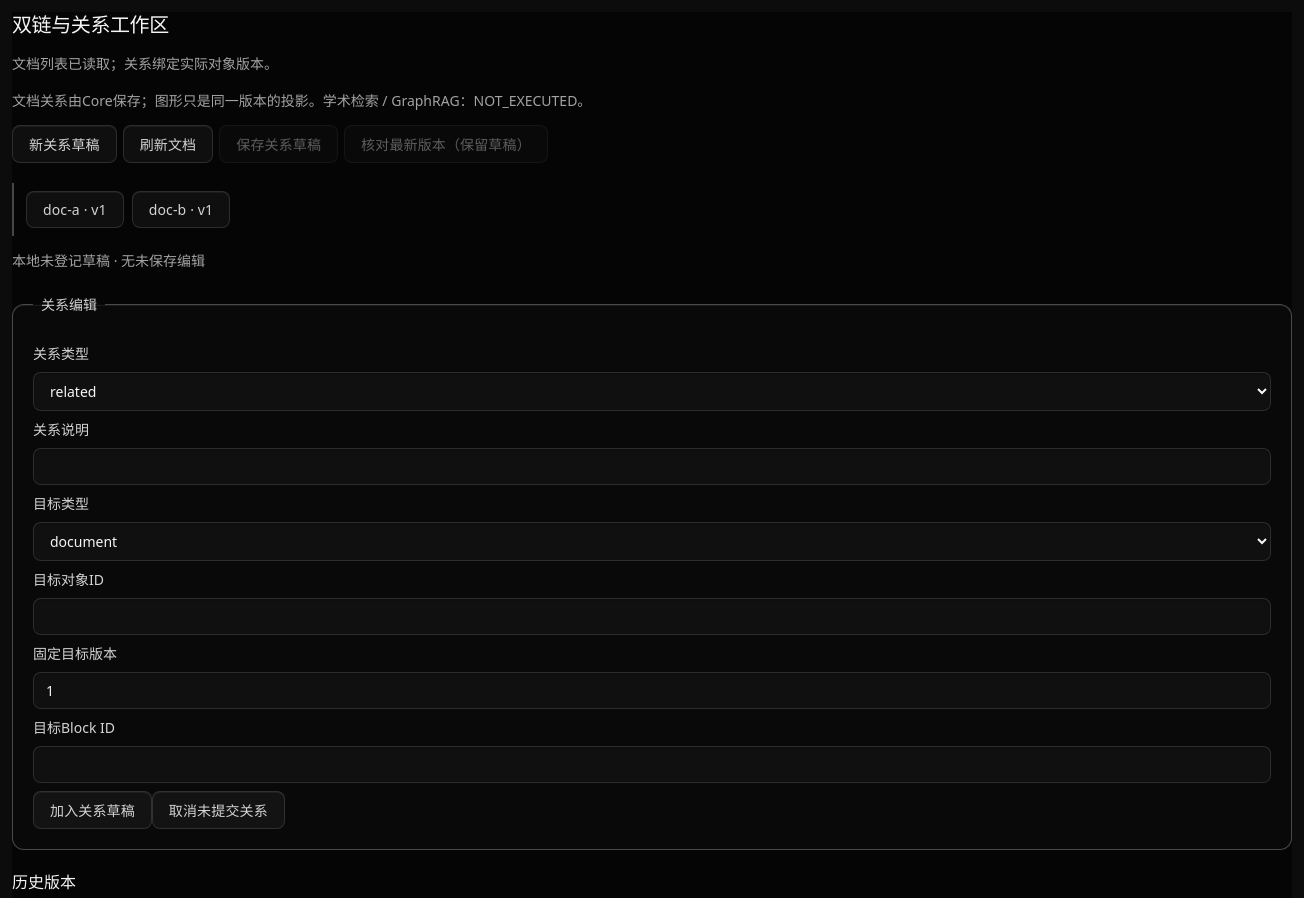
Test: integrated library lease consumers with synthetic Core receipts › applies the same object lease to an actual relation/collection write consumer
This screenshot has width=1304, height=898.
Click the button "doc-a · v1": (75, 210) [26,191,124,228]
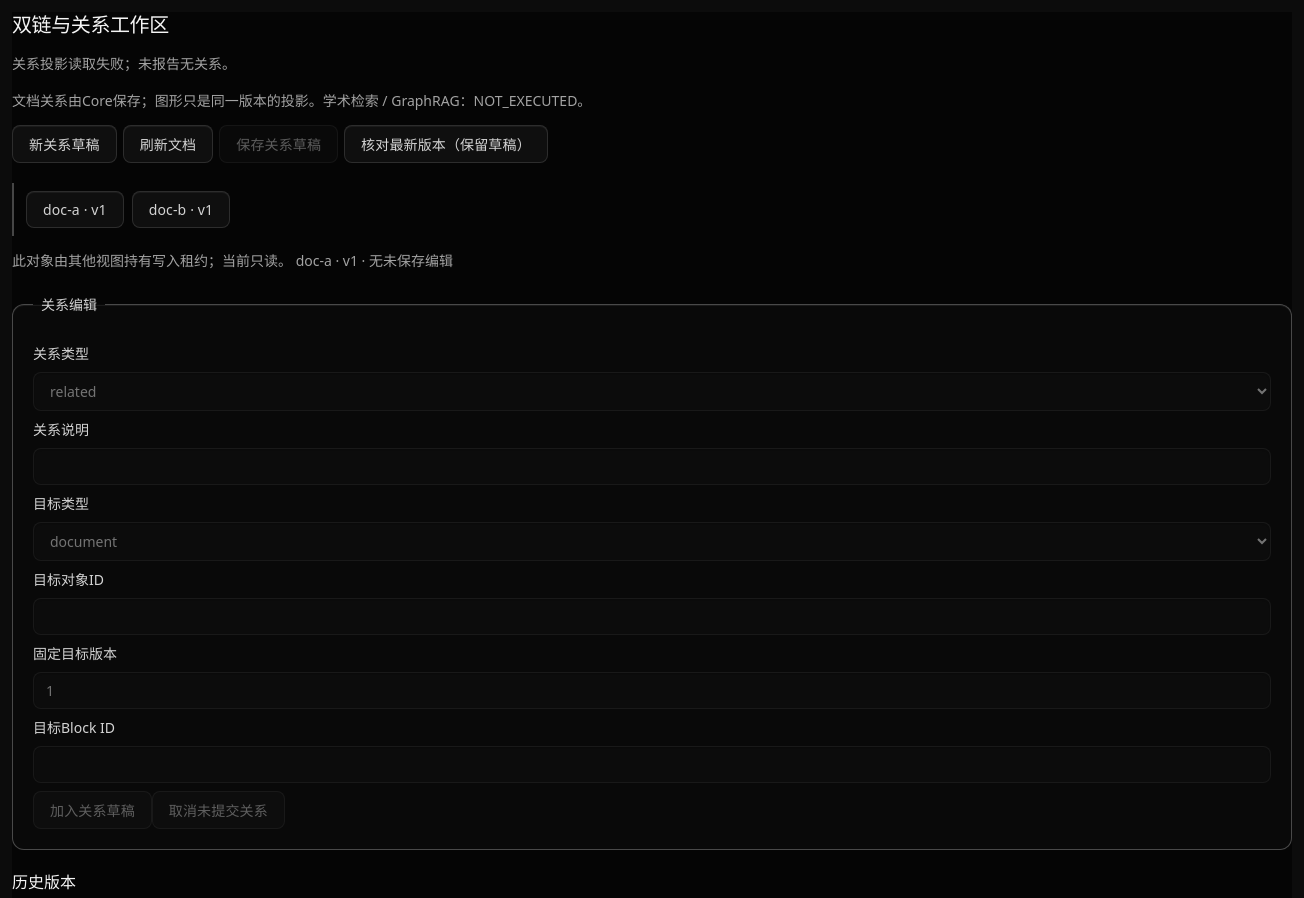
Now the element "关系编辑" is disabled
Now the text "此对象由其他视图持有写入租约；当前只读。 doc-a · v1 · 无未保存编辑" is shown, box [12,251,453,270]
